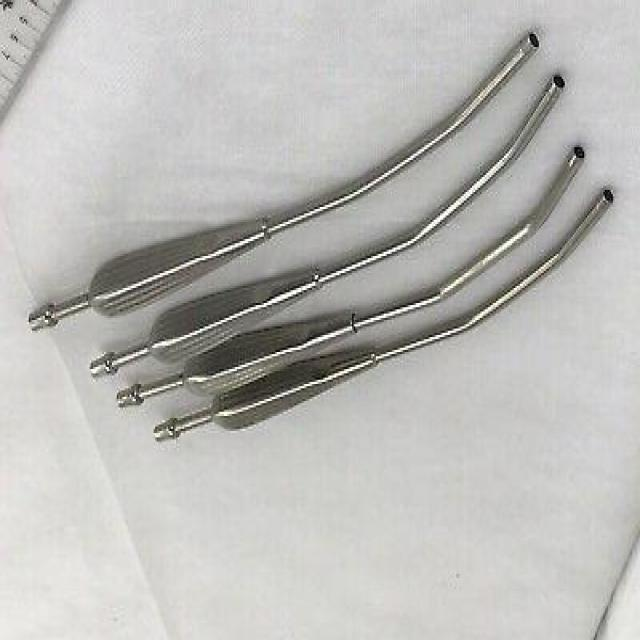Yankauer: (26, 30, 540, 337), (88, 73, 566, 384), (113, 143, 588, 414), (149, 185, 616, 448)
